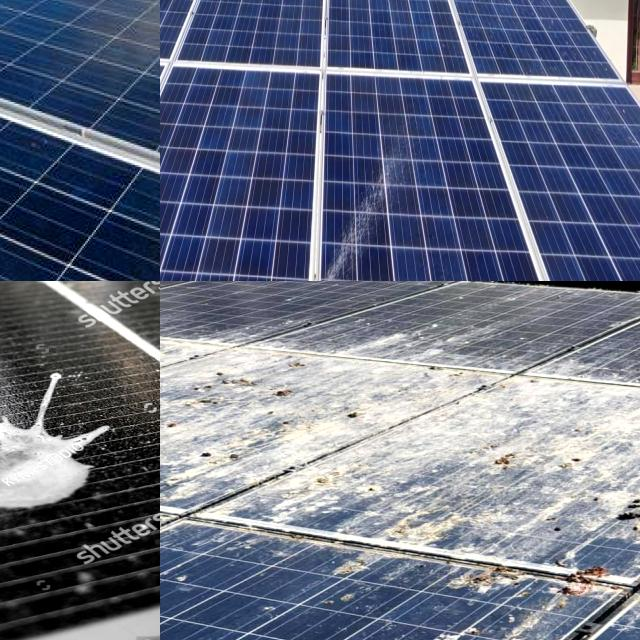bird: (0, 354, 160, 514), (160, 363, 331, 461), (452, 411, 548, 501), (336, 366, 431, 454), (0, 526, 65, 638), (285, 554, 383, 620), (572, 479, 640, 555), (423, 601, 541, 640), (0, 281, 92, 307), (0, 281, 61, 304)
crack: (315, 75, 555, 281), (160, 67, 333, 281), (477, 78, 640, 281), (0, 0, 160, 201), (191, 0, 346, 134), (0, 0, 160, 97), (160, 0, 233, 64)
